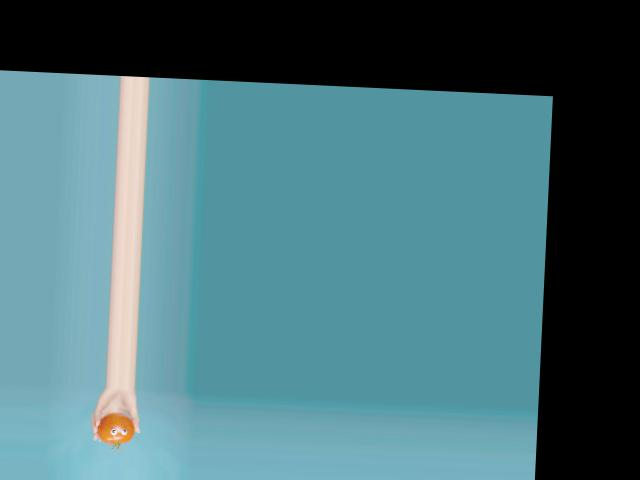tomato: (96, 411, 136, 445)
